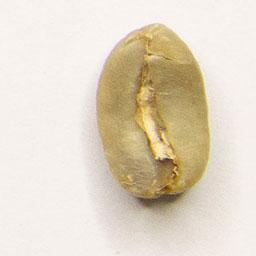longberry: (92, 18, 215, 203)
